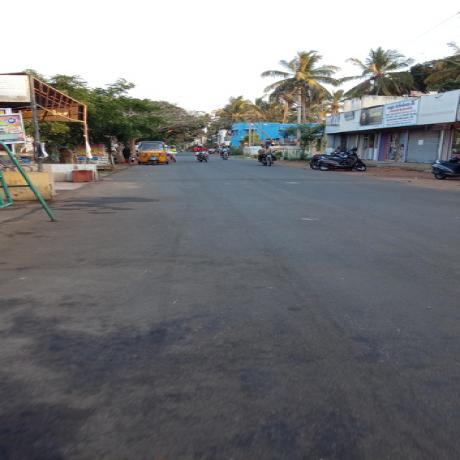Speed Bump: (91, 173, 405, 182)
